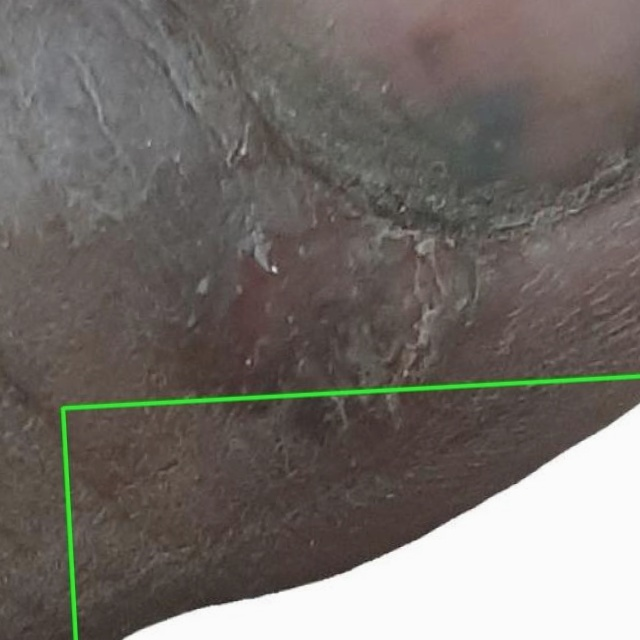Eczema: (63, 376, 639, 639)
